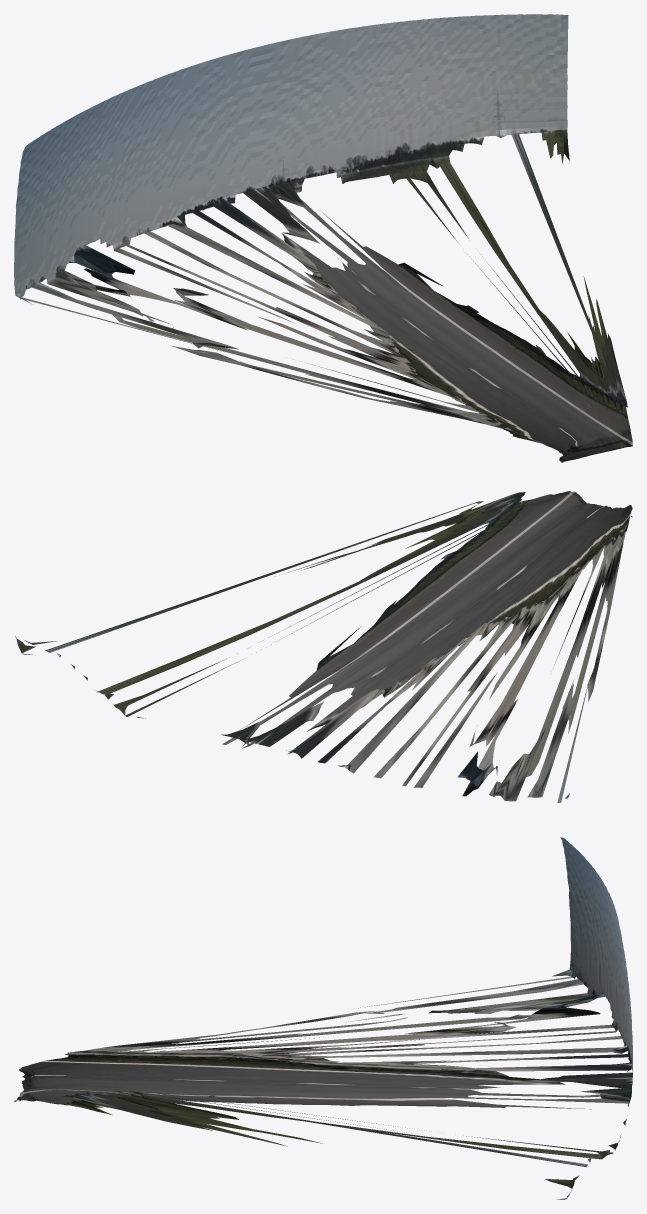
3 views of the same model, one above another, from view 1: azimuth 30°, elevation 25°; view 2: azimuth 150°, elevation 25°; view 3: azimuth 270°, elevation 25° (orthographic). The views are drawn at different scales.
Visible parts, largest first — view 1: defaultobject; view 2: defaultobject; view 3: defaultobject.
Part boxes in pixels (bbox=[...]): defaultobject: bbox=[14, 14, 632, 462]; defaultobject: bbox=[15, 491, 632, 802]; defaultobject: bbox=[14, 837, 632, 1199].
Bounding box in the file's own units: 41.16 × 12.91 × 44.58.
1 material, 1 textured.
